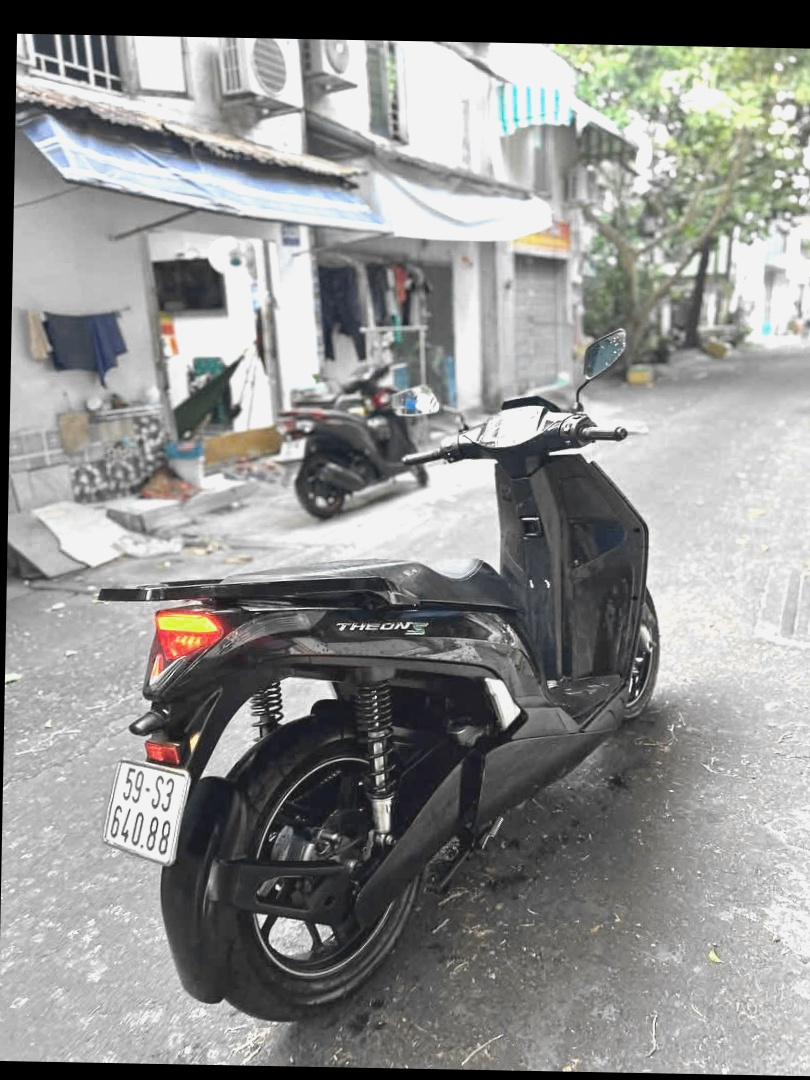Bien-so: (100, 751, 191, 868)
